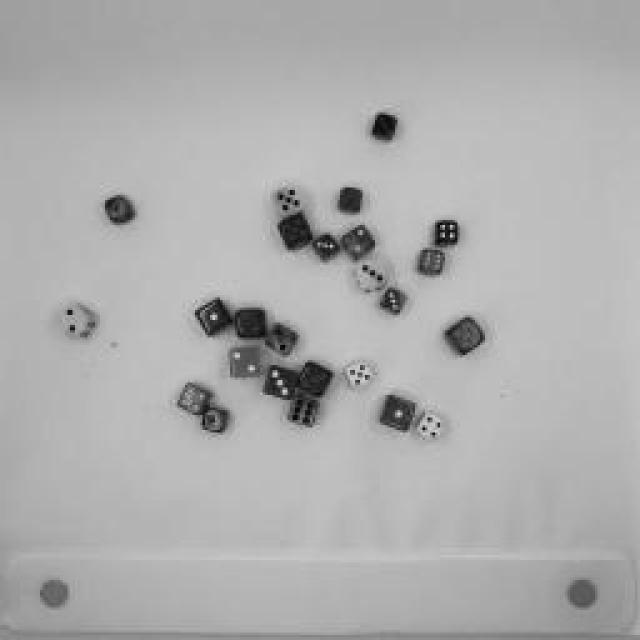dice_1: (380, 392, 415, 438), (195, 299, 233, 339), (100, 195, 138, 225), (200, 408, 230, 432)
dice_2: (52, 302, 100, 342), (226, 344, 264, 376), (339, 225, 376, 257), (232, 309, 268, 341), (265, 322, 295, 358)
dice_3: (352, 258, 388, 292), (261, 365, 294, 400), (371, 112, 401, 142), (310, 234, 340, 264), (381, 288, 409, 318)
dice_4: (416, 408, 444, 442), (179, 385, 206, 415), (431, 219, 459, 246)
dice_5: (444, 315, 486, 363), (275, 214, 315, 251), (344, 358, 376, 392), (270, 185, 305, 215)
dice_6: (291, 395, 319, 430), (339, 188, 366, 218), (419, 249, 446, 279)
